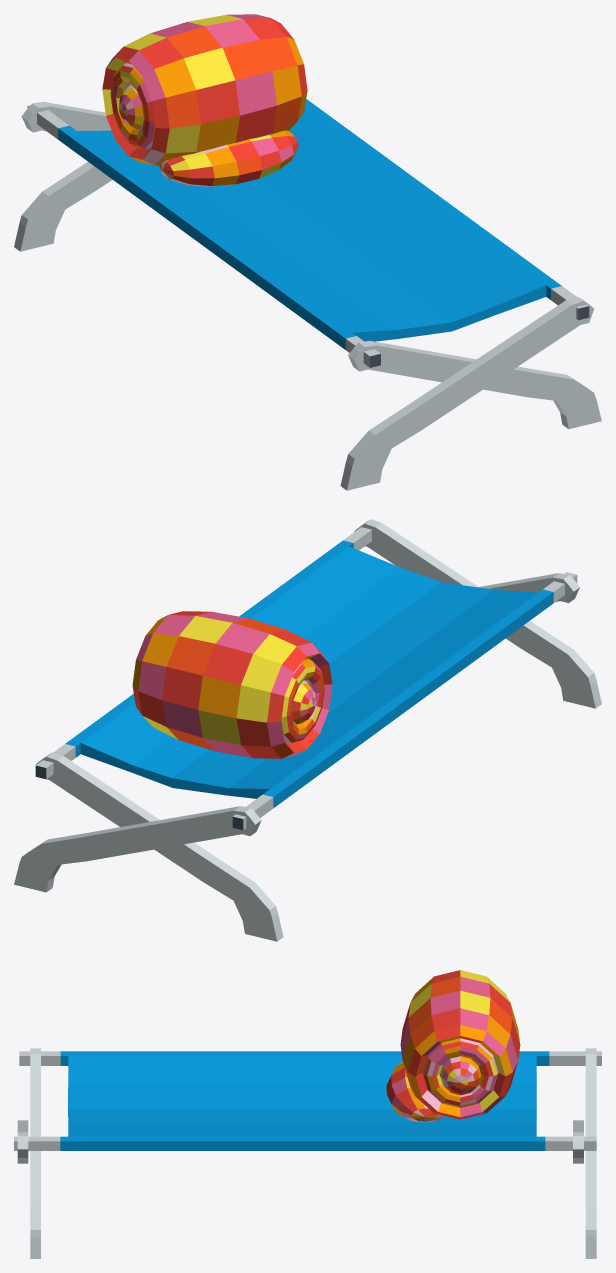
File: triage_cot_2.glb
3 renders of one model, top to bottom at view 1: azimuth 30°, elevation 25°; view 2: azimuth 150°, elevation 25°; view 3: azimuth 270°, elevation 25°, orthographic. The views are drawn at different scales.
Visible parts, largest first — view 1: group525752226, group1041837734, group1224999123, group802491558, group1037513086, group559781611, group2041126463, group215986146, group499535218, group1577345827, group2051142577; view 2: group525752226, group1041837734, group1577345827, group2041126463, group802491558, group1224999123, group215986146, group499535218, group1037513086, group2051142577; view 3: group525752226, group1041837734, group215986146, group802491558, group955491185, group1577345827, group1037513086, group559781611, group911579974, group1224999123, group2041126463.
Part boxes in pixels (<box>): group525752226: <box>77,109,546,341</box>; group1041837734: <box>102,14,307,165</box>; group1224999123: <box>340,296,594,490</box>; group802491558: <box>27,105,380,367</box>; group1037513086: <box>348,341,601,428</box>; group559781611: <box>159,130,298,186</box>; group2041126463: <box>14,162,112,251</box>; group215986146: <box>304,99,589,320</box>; group499535218: <box>110,63,154,149</box>; group1577345827: <box>21,102,111,132</box>; group2051142577: <box>119,85,143,130</box>; group525752226: <box>80,546,537,798</box>; group1041837734: <box>132,611,332,758</box>; group1577345827: <box>14,806,261,892</box>; group2041126463: <box>36,752,283,941</box>; group802491558: <box>232,572,577,830</box>; group1224999123: <box>354,519,601,708</box>; group215986146: <box>35,527,371,779</box>; group499535218: <box>281,658,324,742</box>; group1037513086: <box>478,573,579,603</box>; group2051142577: <box>292,680,315,724</box>; group525752226: <box>68,1056,536,1136</box>; group1041837734: <box>400,970,520,1119</box>; group215986146: <box>14,1136,596,1150</box>; group802491558: <box>19,1051,601,1065</box>; group955491185: <box>422,1038,498,1107</box>; group1577345827: <box>585,1048,596,1258</box>; group1037513086: <box>30,1048,40,1258</box>; group559781611: <box>386,1061,444,1122</box>; group911579974: <box>440,1056,481,1095</box>; group1224999123: <box>17,1120,28,1163</box>; group2041126463: <box>573,1120,583,1163</box>.
Size of the model in its own units: 0.4737 by 0.4225 by 1.08.
